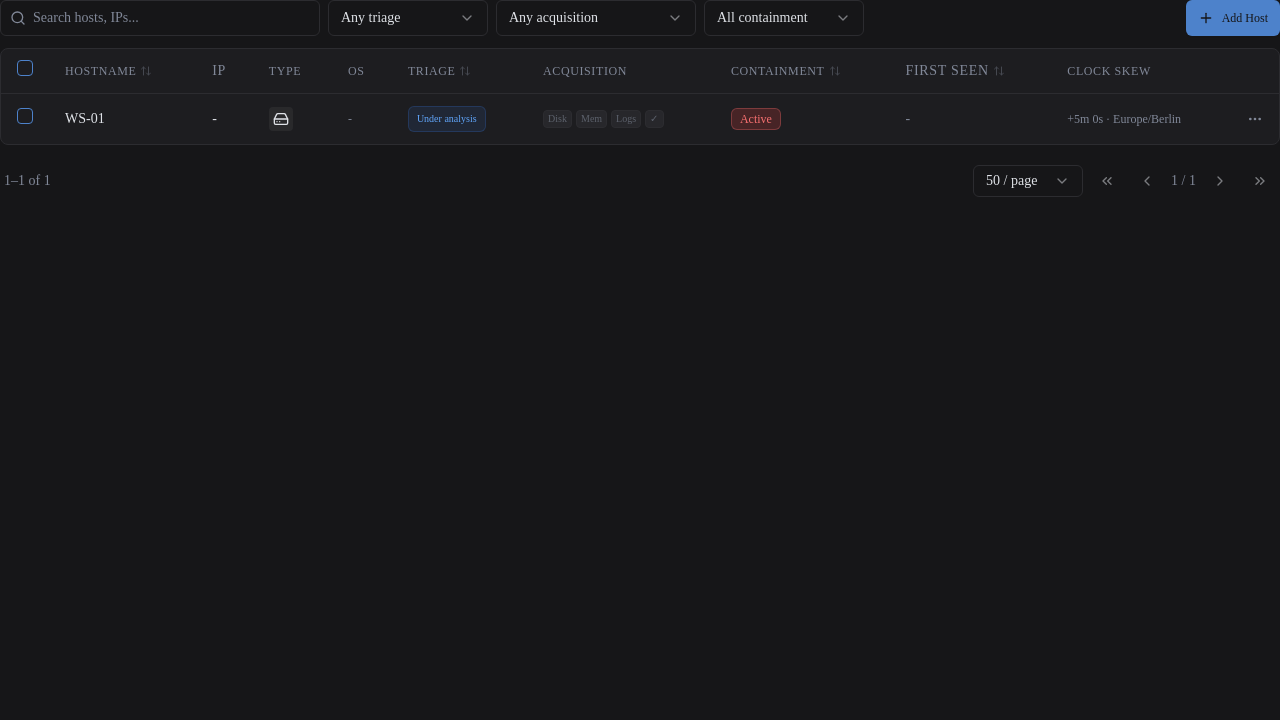
Test: HostsTab clock skew › shows the skew column and opens the editor from the row menu
The image size is (1280, 720).
Expected: the text "+5m 0s · Europe/Berlin" is shown, [1067,112,1181,126]
Step 1. Press . in the text "WS-01", box [1,93,1279,144]
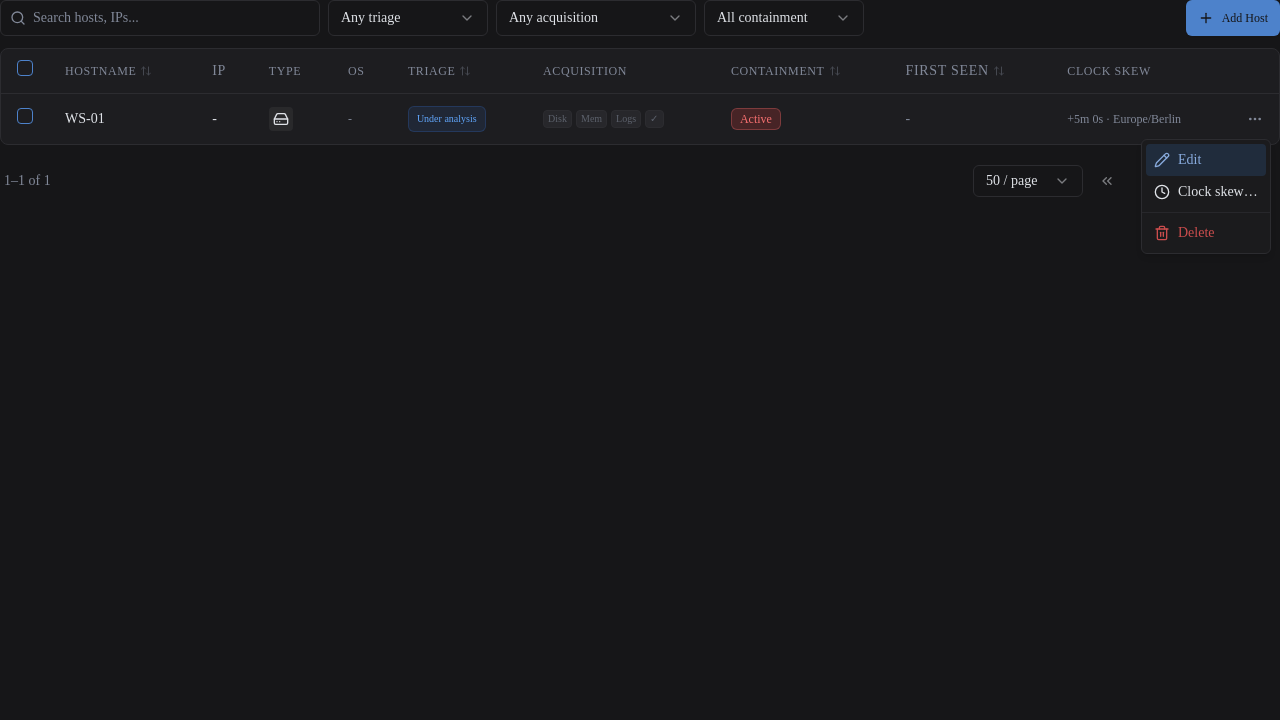
Step 2. Click the menu item "Clock skew…" → (1206, 192), box [1154,184,1258,200]
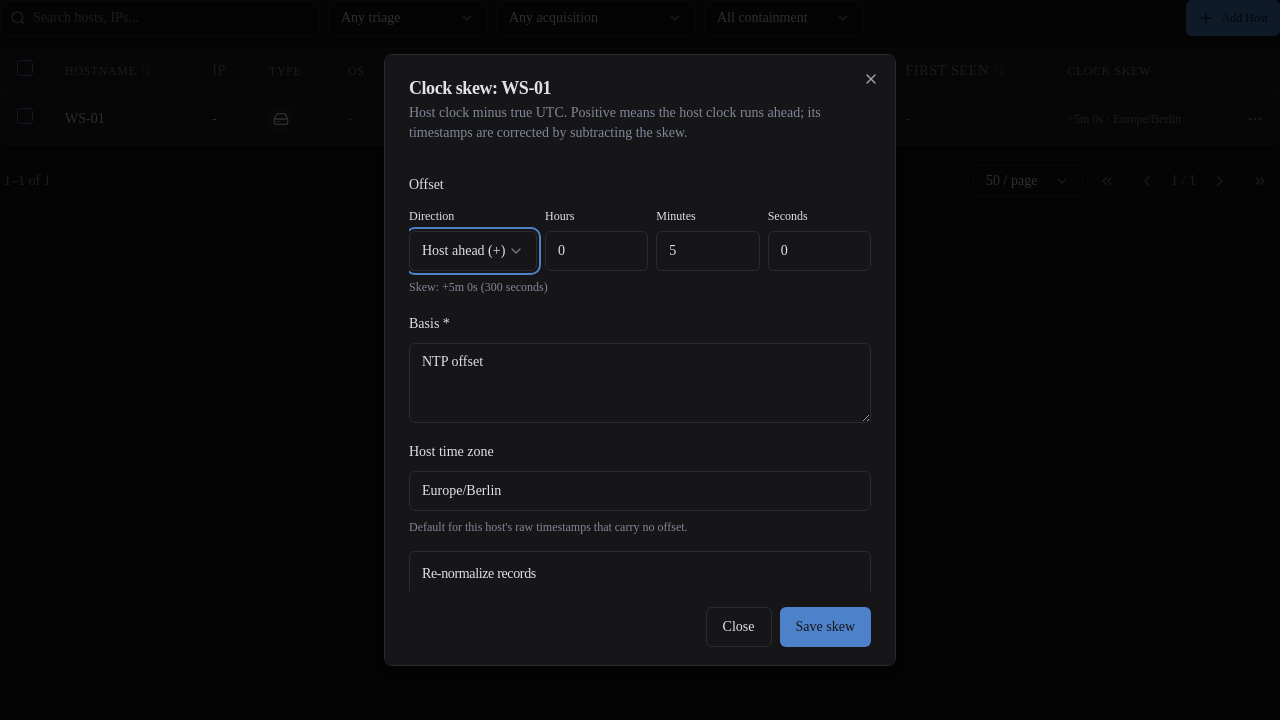
Expected: the number field labelled "Minutes" holds "5", [656,231,760,271]
Result: the heading "Clock skew: WS-01" is shown at [409,78,551,98]
